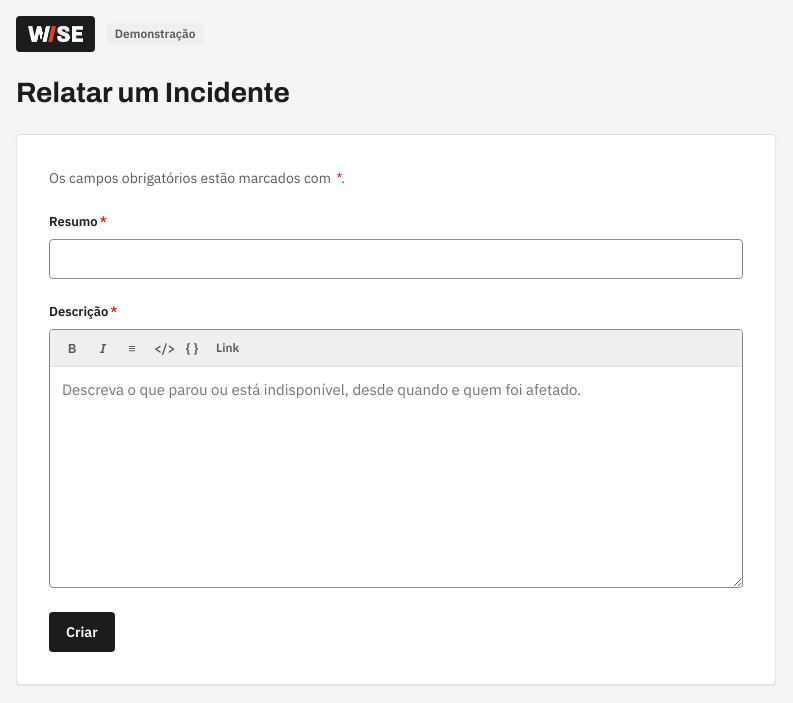
Test: toolbar do editor › o botão de negrito envolve o texto selecionado
In the text box labelled "Descrição*": (396, 477) x1=50 y1=367 x2=742 y2=587, type "importante"
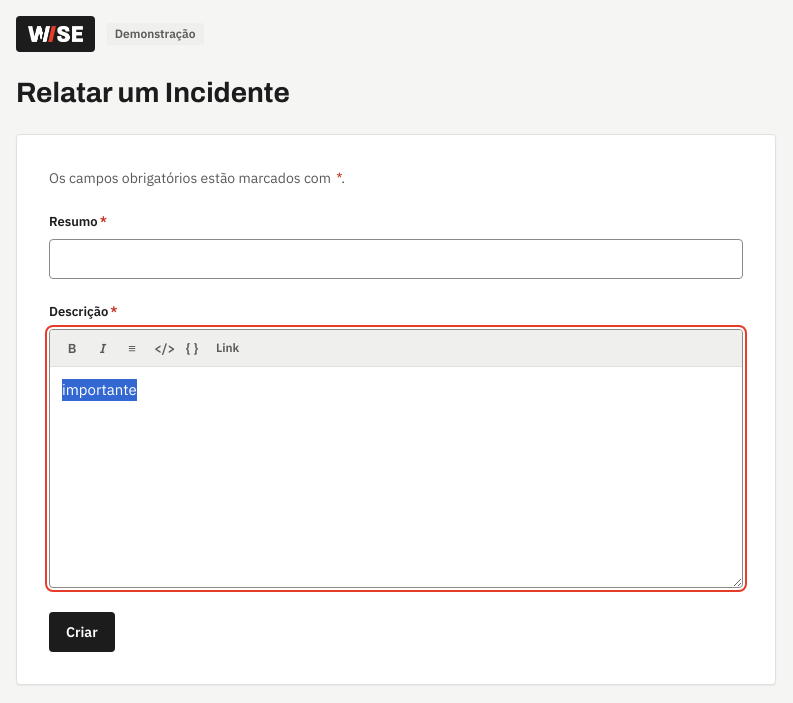
Click the button named "Negrito": (72, 348) x1=58 y1=334 x2=86 y2=362
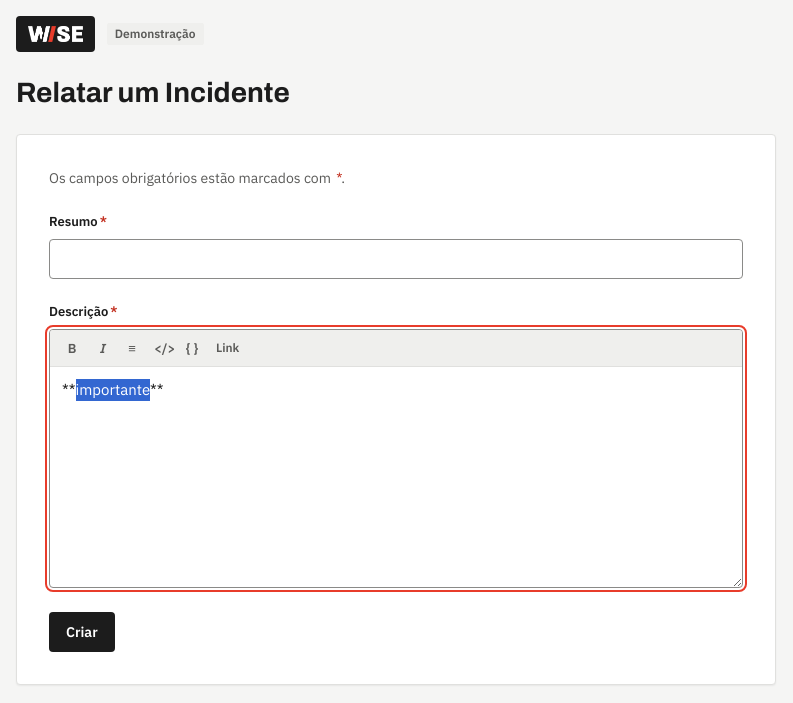
Expected: the text box labelled "Descrição*" holds "**importante**", x1=50 y1=367 x2=742 y2=587
